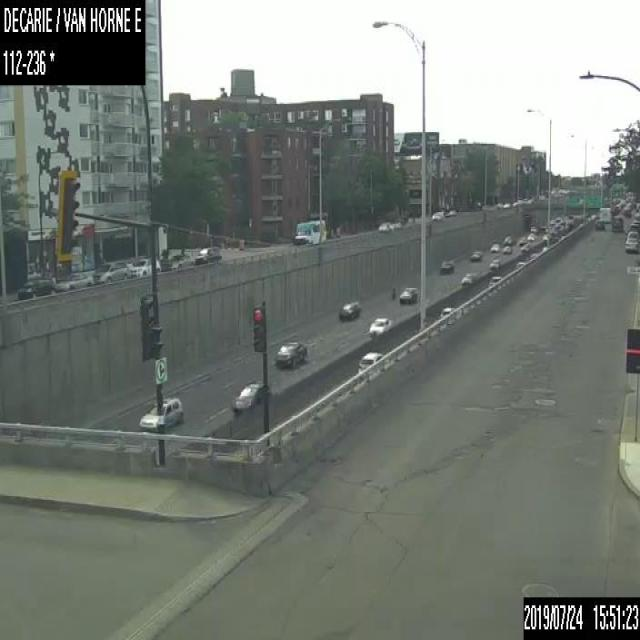bus: (293, 218, 326, 244)
vehicle: (137, 395, 182, 430), (233, 380, 270, 412), (274, 340, 306, 367), (92, 260, 128, 284), (162, 244, 192, 271), (17, 276, 56, 296), (56, 272, 94, 290), (356, 349, 383, 374), (127, 256, 159, 276), (193, 244, 221, 264), (367, 314, 393, 334), (339, 299, 361, 320), (624, 231, 639, 252), (399, 286, 416, 302), (610, 215, 624, 231), (438, 305, 453, 319), (599, 206, 611, 222), (438, 260, 453, 272), (486, 274, 501, 286), (377, 221, 392, 232), (459, 272, 472, 284), (503, 234, 515, 245), (489, 257, 501, 268), (626, 223, 639, 233), (431, 210, 443, 220), (529, 221, 539, 232), (489, 242, 499, 252), (470, 249, 480, 259), (520, 242, 531, 251), (622, 207, 632, 216), (594, 220, 603, 229), (527, 232, 537, 240), (515, 260, 524, 268), (518, 236, 526, 244), (502, 245, 510, 253), (541, 232, 548, 239), (632, 221, 639, 224)
